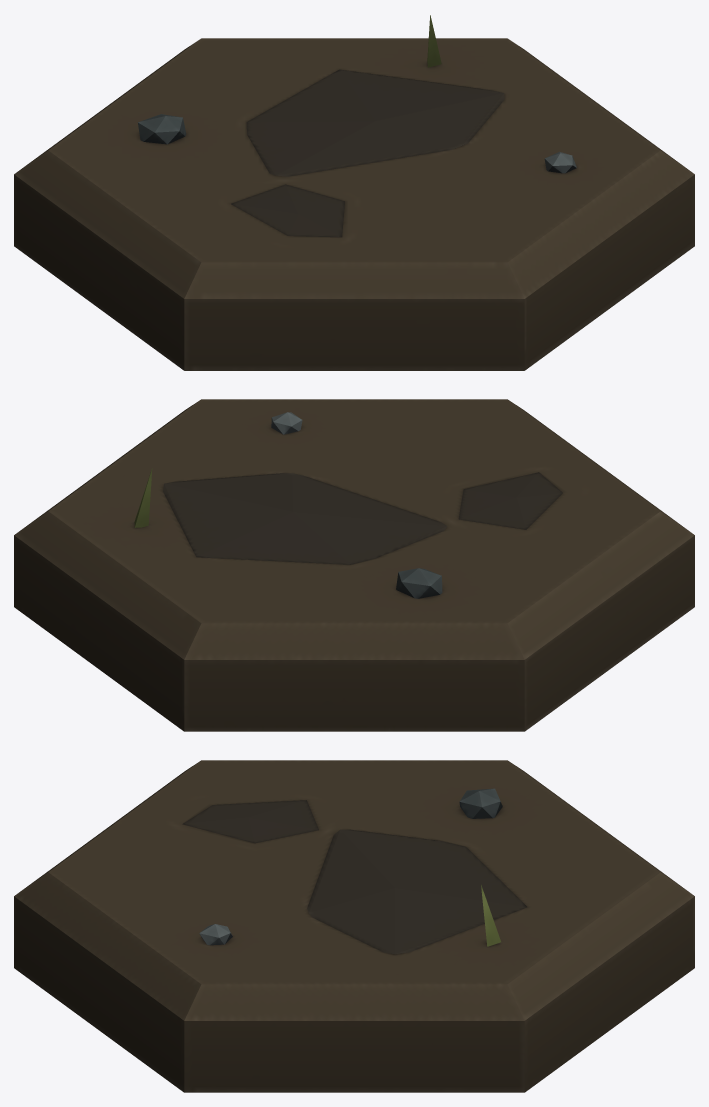
The model's file is tile_hex_mud.glb.
The picture shows the model from 3 angles, top to bottom: view 1: azimuth 30°, elevation 25°; view 2: azimuth 150°, elevation 25°; view 3: azimuth 270°, elevation 25°; orthographic projection.
Visible parts, largest first — view 1: tile_hex_mud; view 2: tile_hex_mud; view 3: tile_hex_mud.
Boxes of the visible parts, left/top/right/bottom form: tile_hex_mud: left=14, top=15, right=694, bottom=370; tile_hex_mud: left=14, top=399, right=694, bottom=731; tile_hex_mud: left=14, top=760, right=694, bottom=1092.
Size of the model in its own units: 1.12 by 0.317 by 1.29.
Materials: 1 (1 with a texture image).
